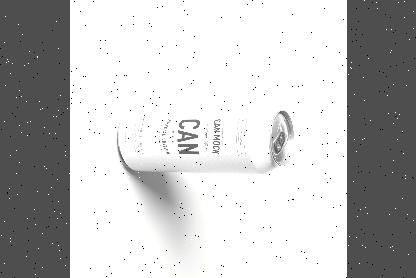Can: (117, 102, 293, 174)
